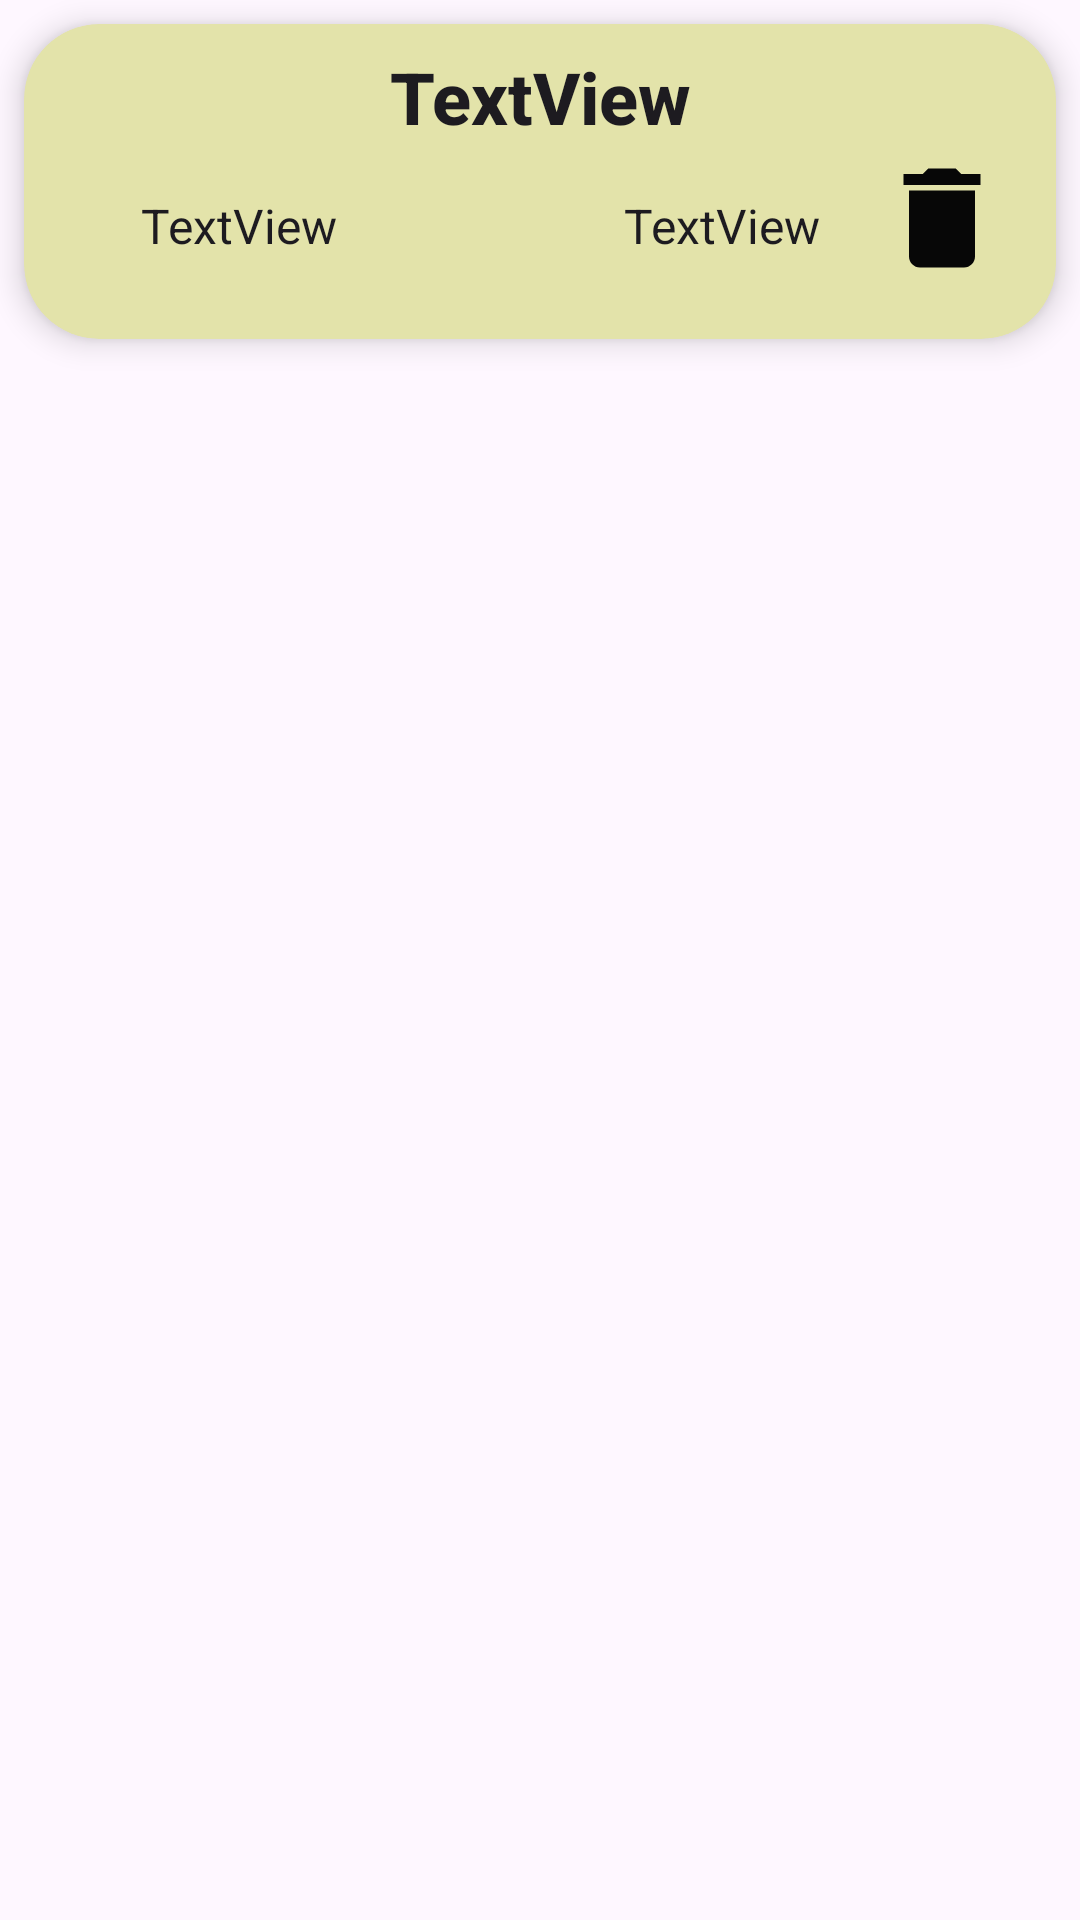

Icons on this 1080×1920 Android screen, each with its box as (x1, y1, x2, y2):
delete: (903, 168, 981, 268)
